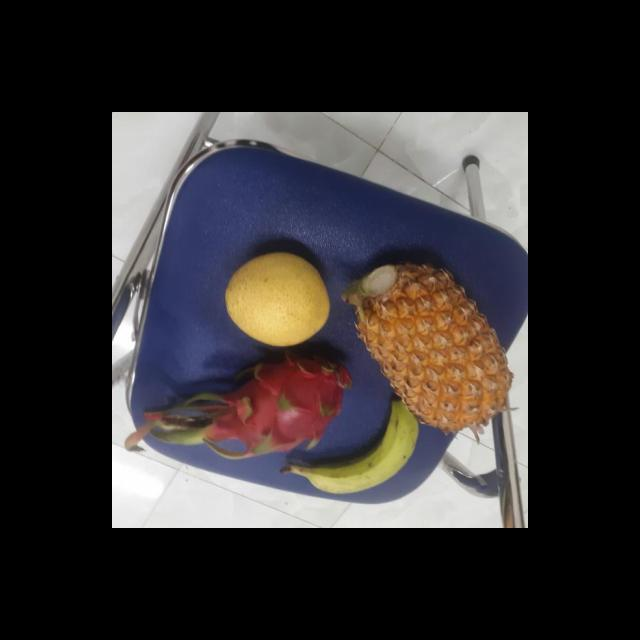banana: (294, 392, 424, 497)
guava: (228, 252, 339, 344)
pineapple: (345, 258, 510, 433)
pitaya: (209, 346, 354, 456)
